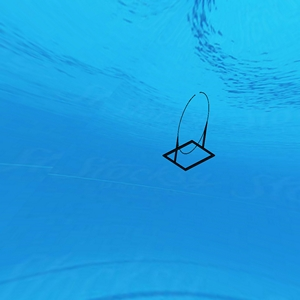circle: (162, 92, 221, 173)
